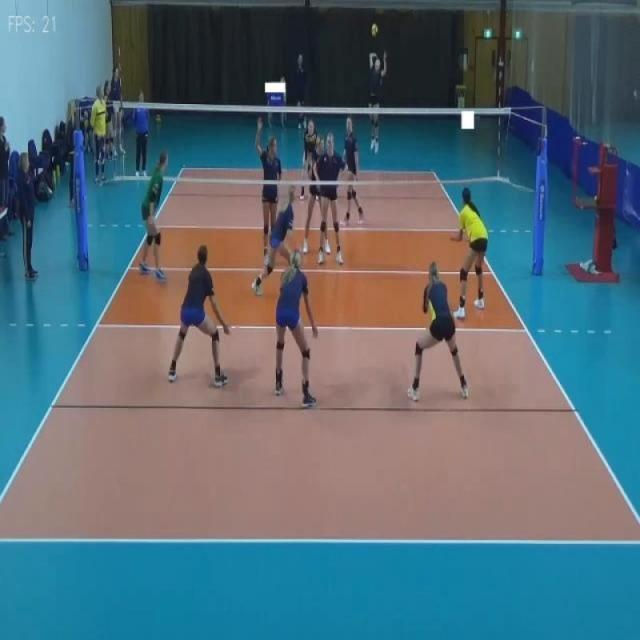volleyball: (371, 23, 378, 38), (155, 114, 162, 124)
